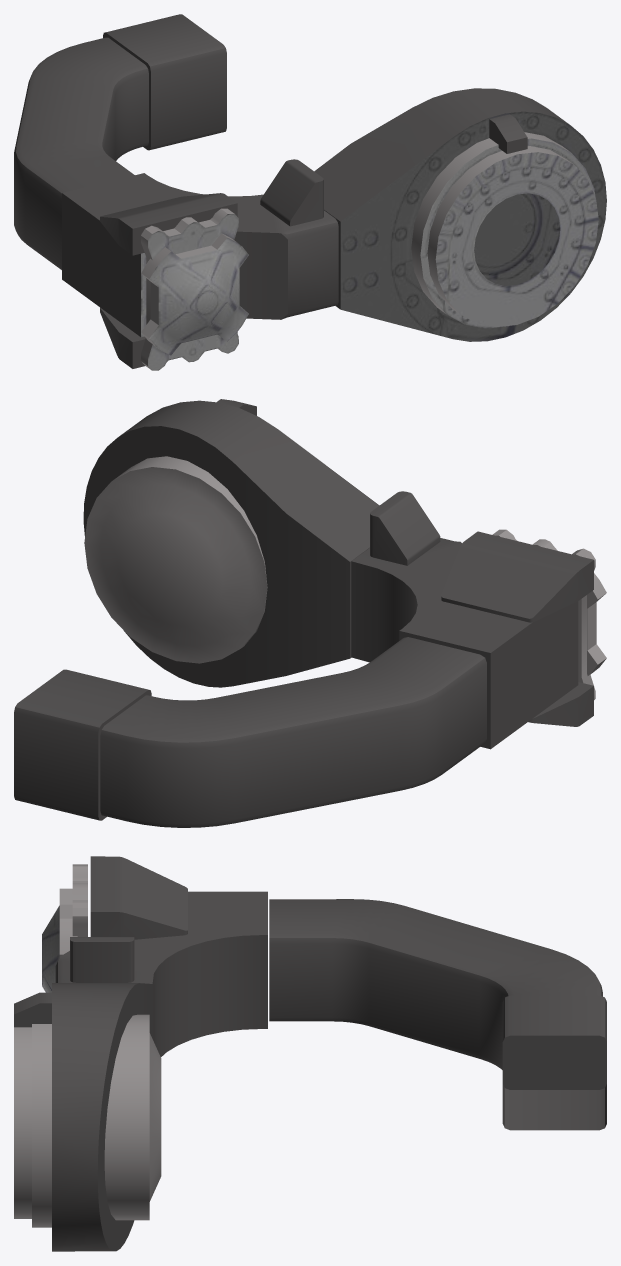
Rendered from Perseverance_rear_wheel_mount.glb.
The picture shows the model from 3 angles, top to bottom: view 1: azimuth 30°, elevation 25°; view 2: azimuth 150°, elevation 25°; view 3: azimuth 270°, elevation 25°; orthographic projection. The views are drawn at different scales.
Visible parts, largest first — view 1: susp.rear_wheel_mount; view 2: susp.rear_wheel_mount; view 3: susp.rear_wheel_mount.
Boxes of the visible parts, x1=… form: susp.rear_wheel_mount: x1=14, y1=14, x2=606, y2=370; susp.rear_wheel_mount: x1=14, y1=399, x2=606, y2=827; susp.rear_wheel_mount: x1=14, y1=856, x2=606, y2=1251.
Bounding box in the file's own units: 0.4444 × 0.2085 × 0.461.
4 materials, 2 textured.
